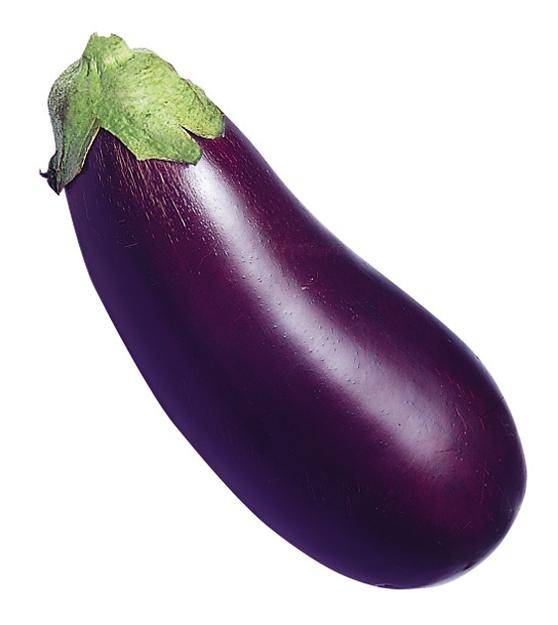eggplant: (41, 30, 529, 588)
